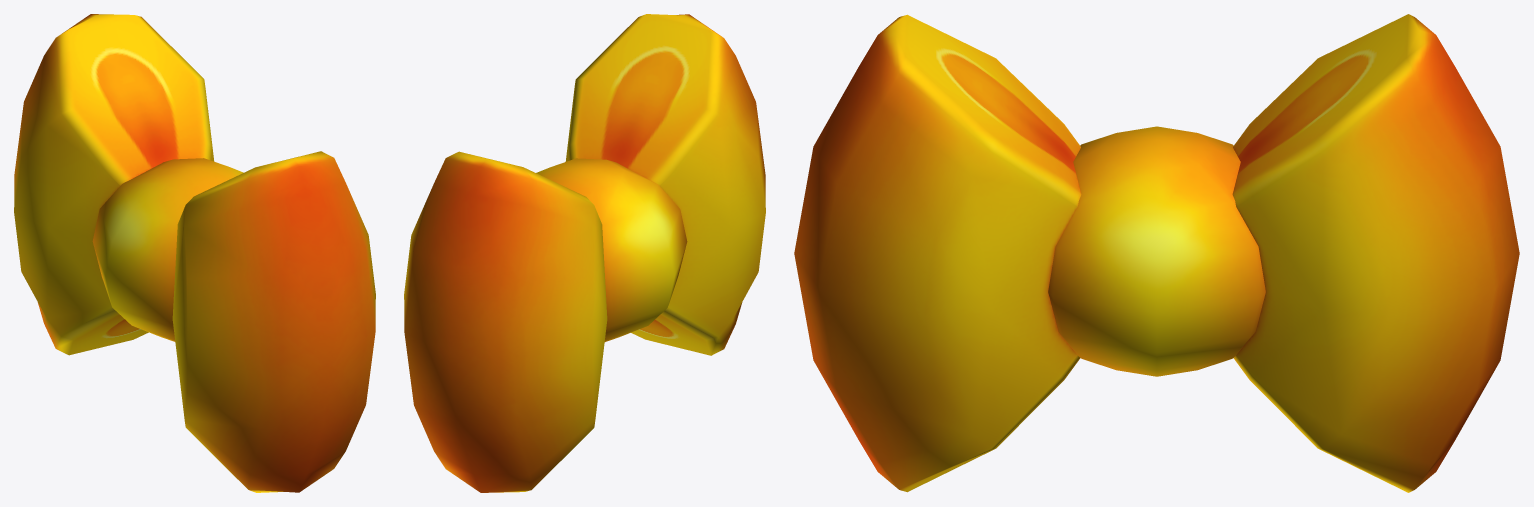
Rendered from Bow.fbx.
The picture shows the model from 3 angles, left to right: view 1: azimuth 30°, elevation 25°; view 2: azimuth 150°, elevation 25°; view 3: azimuth 270°, elevation 25°; orthographic projection. The views are drawn at different scales.
Parts seen in each view (by area): view 1: Bow; view 2: Bow; view 3: Bow.
Boxes of the visible parts, x1,y1,x2,y2 form: Bow: (14,14,375,492); Bow: (404,14,765,492); Bow: (794,14,1519,492).
Bounding box in the file's own units: 40.01 × 67.59 × 99.66.
